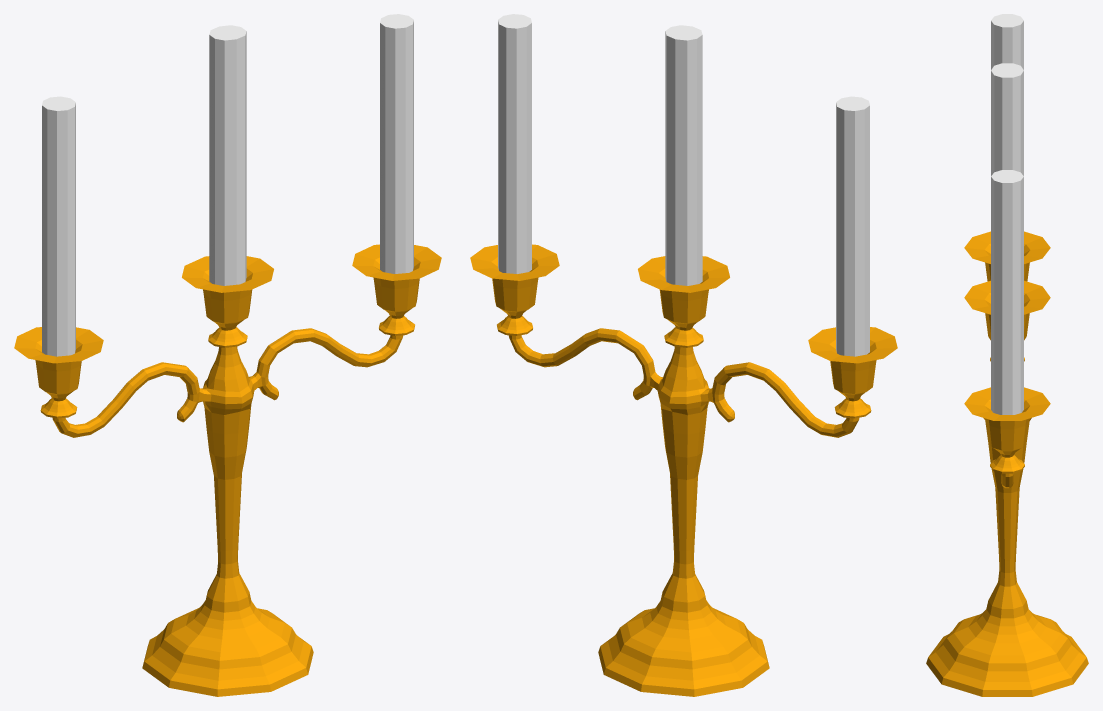
Rendered from Candelabro.fbx.
The picture shows the model from 3 angles, left to right: view 1: azimuth 30°, elevation 25°; view 2: azimuth 150°, elevation 25°; view 3: azimuth 270°, elevation 25°; orthographic projection. The views are drawn at different scales.
Parts seen in each view (by area): view 1: Candelabro; view 2: Candelabro; view 3: Candelabro.
Boxes of the visible parts, left/top/right/bottom form: Candelabro: left=14, top=14, right=441, bottom=696; Candelabro: left=470, top=14, right=897, bottom=696; Candelabro: left=926, top=14, right=1088, bottom=696.
Bounding box in the file's own units: 27.84 × 40.38 × 10.05.
